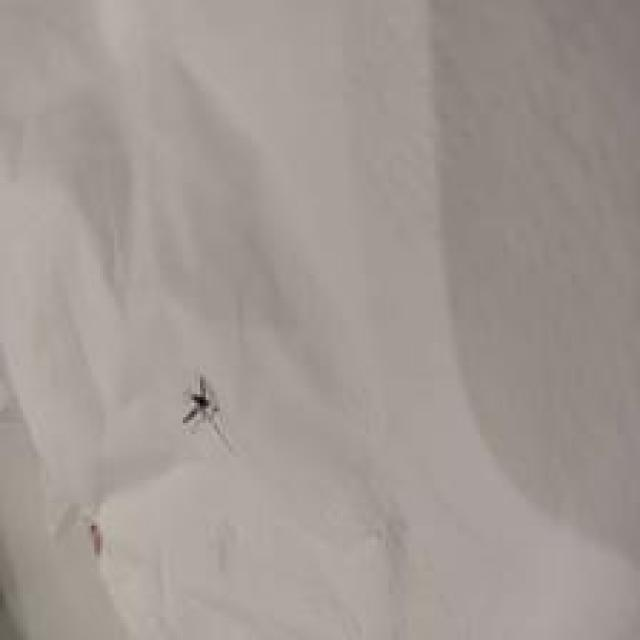Aedes albopictus: (180, 373, 234, 453)
